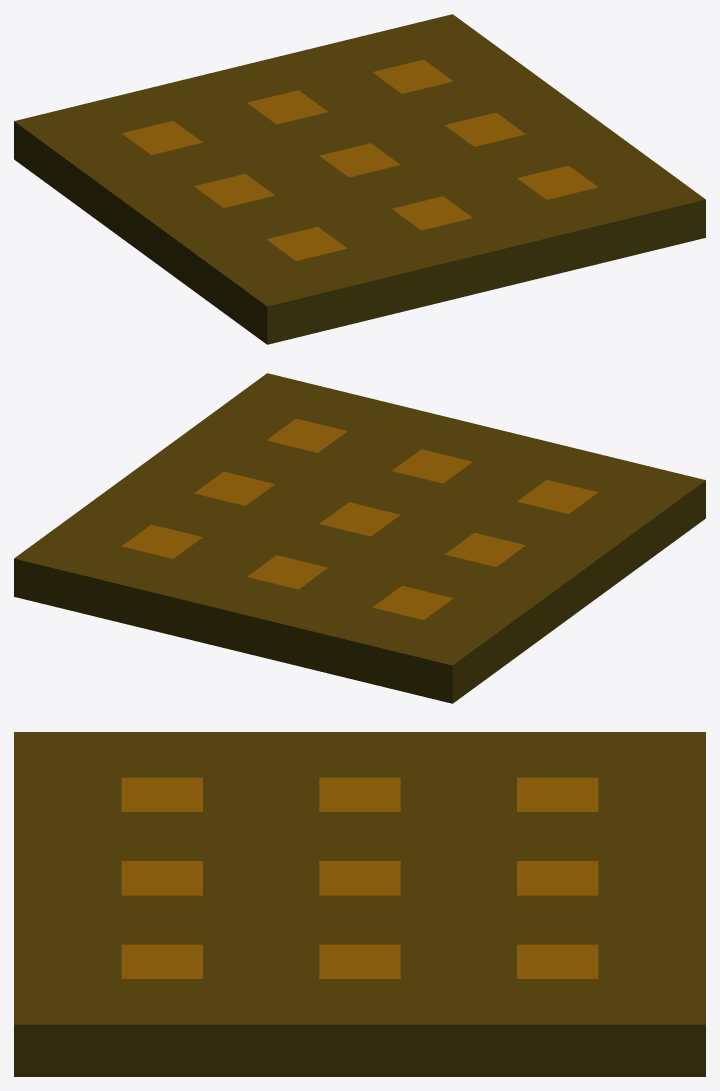
The model's file is chceckeredbrown.obj.
3 renders of one model, top to bottom at view 1: azimuth 30°, elevation 25°; view 2: azimuth 150°, elevation 25°; view 3: azimuth 270°, elevation 25°, orthographic. The views are drawn at different scales.
Visible parts, largest first — view 1: citytiles_Plane.004; view 2: citytiles_Plane.004; view 3: citytiles_Plane.004.
Boxes of the visible parts, x1,y1,x2,y2 form: citytiles_Plane.004: (14,14,705,344); citytiles_Plane.004: (14,373,705,703); citytiles_Plane.004: (14,732,705,1076).
Bounding box in the file's own units: 12 × 1 × 12.
1 material, 1 textured.
